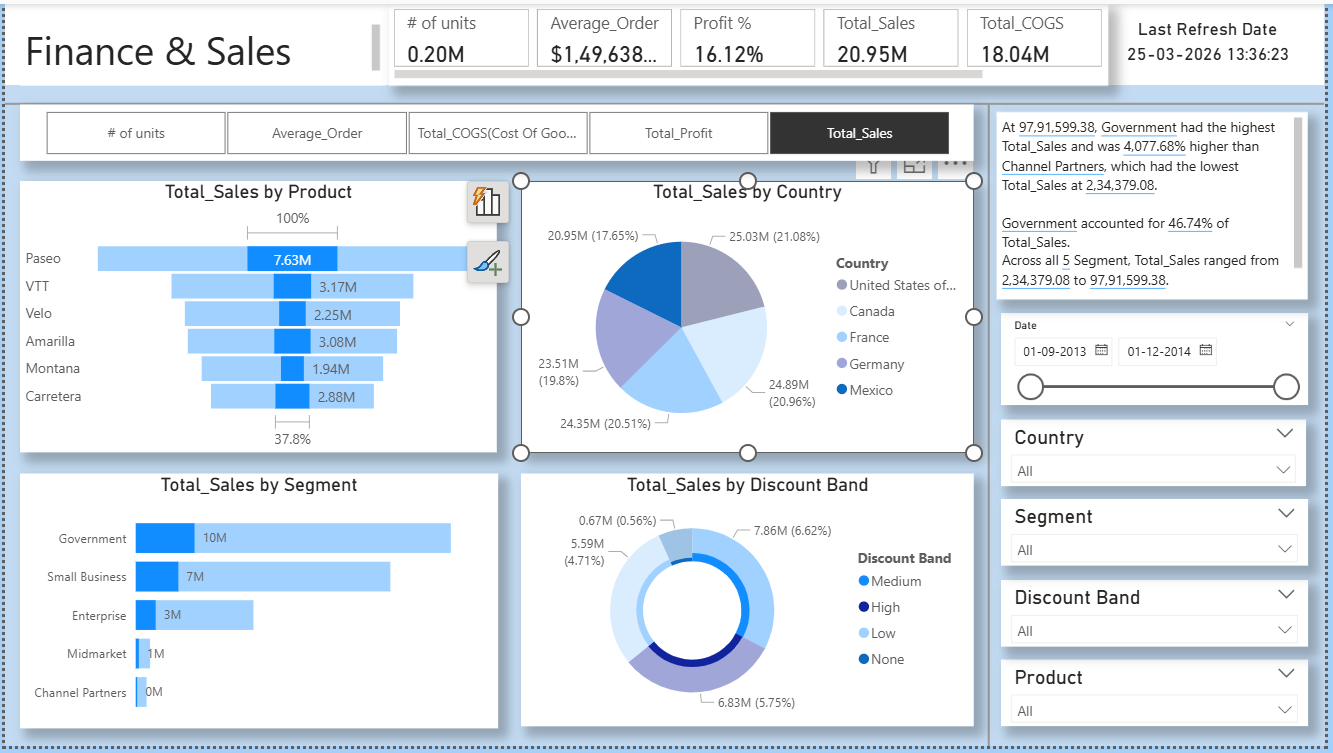

Layout of this report page (visuals, bound fields, positions):
{"tool":"powerbi","page":{"name":"Main Page","canvas":[1280,720],"ordinal":0},"visuals":[{"type":"shape","box":[0,0,1280,78.6],"z":0},{"type":"shape","box":[937.7,97.2,34.4,623.8],"z":2000},{"type":"textbox","box":[14.2,14.2,354.4,64.8],"z":3000},{"type":"card","title":"Last Refresh Date","fields":{"Values":["Min(LastRefreshDate.LastRefresh)"]},"box":[1070.4,15.1,194.5,48.4],"z":4000},{"type":"cardVisual","fields":{"Data":["financials.# of units","financials.Average_Order","financials.Profit %","financials.Total_Sales","financials.Total_COGS(Cost Of Goods Sold)","financials.Total_Profit"]},"box":[372.4,0,697.9,79.3],"z":4001},{"type":"funnel","fields":{"Category":["financials.Product"],"Y":["financials.Total_Sales"]},"box":[14.6,171.8,462.9,263.5],"z":4002},{"type":"barChart","fields":{"Category":["financials.Segment"],"Y":["financials.Total_Sales"]},"box":[14.2,455.7,463.8,247.1],"z":4003},{"type":"donutChart","fields":{"Category":["financials.Discount Band"],"Y":["financials.Total_Sales"]},"box":[500.3,455.7,439.5,245.1],"z":4004},{"type":"pieChart","fields":{"Category":["financials.Country"],"Y":["financials.Total_Sales"]},"box":[500.7,171.8,439.6,263.5],"z":4005},{"type":"shape","box":[0,88.6,1280,16.1],"z":4006},{"type":"slicer","fields":{"Values":["financials.Product"]},"box":[966.1,635.9,297.7,64.8],"z":4007},{"type":"slicer","fields":{"Values":["financials.Country"]},"box":[966.7,403.2,296.3,64.8],"z":4008},{"type":"slicer","fields":{"Values":["financials.Discount Band"]},"box":[966.1,559,297.7,64.8],"z":4010},{"type":"slicer","fields":{"Values":["financials.Date"]},"box":[966.1,299.7,297.7,89.1],"z":4011},{"type":"slicer","fields":{"Values":["financials.Segment"]},"box":[966.1,480,297.7,64.8],"z":4012},{"type":"slicer","fields":{"Values":["Parameter 2.Parameter"]},"box":[14.2,97.2,925.6,54.7],"z":4013},{"type":"textbox","box":[962,105.3,301.8,182.3],"z":4014}]}

Visuals, with their boxes in screenshot pixels (x1, y1, x2, y2), scaled from the page's 1280x720 canvas onto the 1333x753 screenshot:
shape: bbox(0, 0, 1332, 82)
shape: bbox(977, 102, 1012, 752)
textbox: bbox(15, 15, 384, 83)
"Last Refresh Date" card: bbox(1115, 16, 1317, 66)
cardVisual - financials.# of units x financials.Average_Order: bbox(388, 0, 1115, 83)
funnel - financials.Product x financials.Total_Sales: bbox(15, 180, 497, 455)
barChart - financials.Segment x financials.Total_Sales: bbox(15, 477, 498, 735)
donutChart - financials.Discount Band x financials.Total_Sales: bbox(521, 477, 979, 733)
pieChart - financials.Country x financials.Total_Sales: bbox(521, 180, 979, 455)
shape: bbox(0, 93, 1332, 109)
slicer - financials.Product: bbox(1006, 665, 1316, 733)
slicer - financials.Country: bbox(1007, 422, 1315, 489)
slicer - financials.Discount Band: bbox(1006, 585, 1316, 652)
slicer - financials.Date: bbox(1006, 313, 1316, 407)
slicer - financials.Segment: bbox(1006, 502, 1316, 570)
slicer - Parameter 2.Parameter: bbox(15, 102, 979, 159)
textbox: bbox(1002, 110, 1316, 301)
